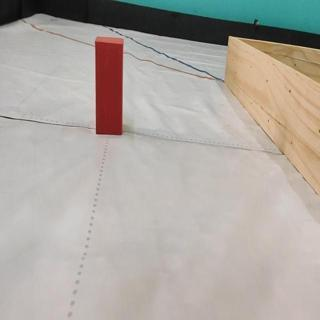redbox: (95, 35, 122, 134)
